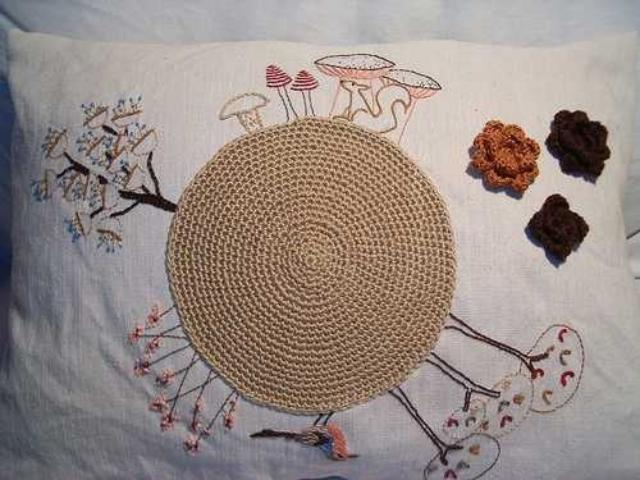pillow: (0, 28, 638, 478)
